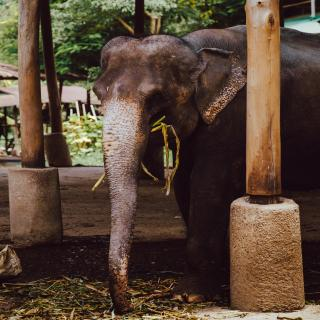Elephant: (82, 24, 320, 318)
